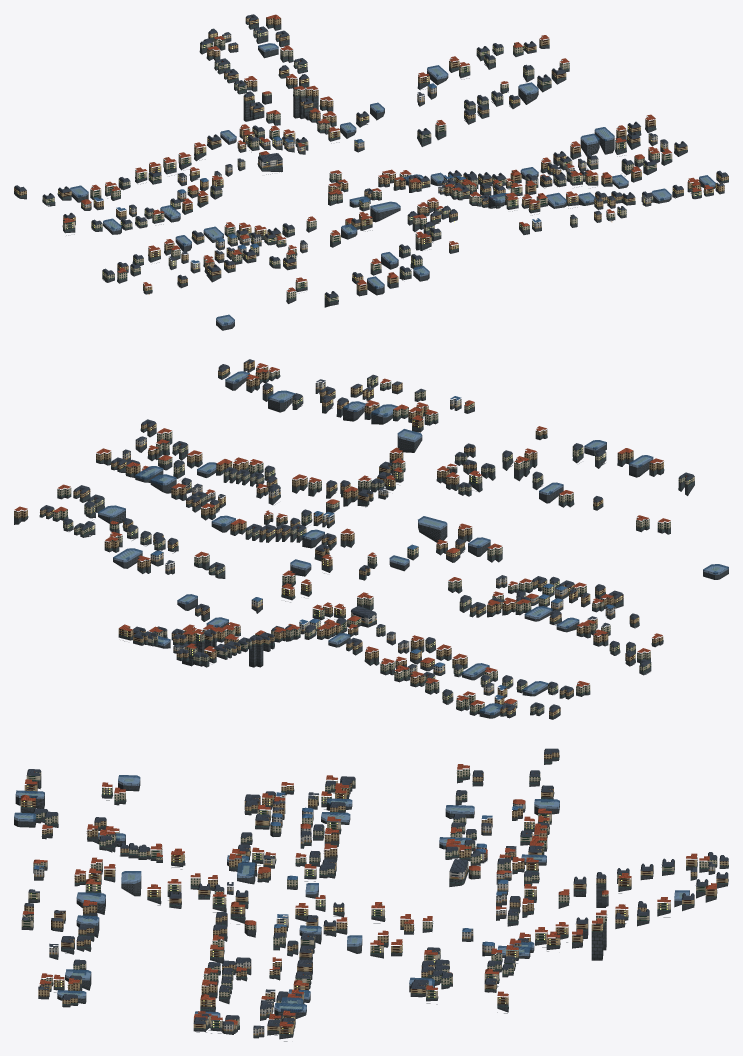
Rendered from osm_buildings_T_E02_S02_Q2.glb.
3 renders of one model, top to bottom at view 1: azimuth 30°, elevation 25°; view 2: azimuth 150°, elevation 25°; view 3: azimuth 270°, elevation 25°, orthographic. The views are drawn at different scales.
Visible parts, largest first — view 1: OSM_T_E02_S02_Q2_foundation, OSM_T_E02_S02_Q2_wall_french_ochre, OSM_T_E02_S02_Q2_wall_cream_stucco, OSM_T_E02_S02_Q2_roof_terracotta, OSM_T_E02_S02_Q2_roof_mansard_slate, OSM_T_E02_S02_Q2_greenhouse_blend, OSM_T_E02_S02_Q2_roof_mansard_deck, OSM_T_E02_S02_Q2_roof_mint_metal, OSM_T_E02_S02_Q2_trim_cornice, OSM_T_E02_S02_Q2_wall_warm_white, OSM_T_E02_S02_Q2_balcony_railing, OSM_T_E02_S02_Q2_window_emissive_warm (+2 smaller); view 2: OSM_T_E02_S02_Q2_foundation, OSM_T_E02_S02_Q2_wall_french_ochre, OSM_T_E02_S02_Q2_wall_cream_stucco, OSM_T_E02_S02_Q2_roof_terracotta, OSM_T_E02_S02_Q2_greenhouse_blend, OSM_T_E02_S02_Q2_roof_mansard_slate, OSM_T_E02_S02_Q2_roof_mansard_deck, OSM_T_E02_S02_Q2_roof_mint_metal, OSM_T_E02_S02_Q2_wall_warm_white, OSM_T_E02_S02_Q2_wall_pastel_sand, OSM_T_E02_S02_Q2_trim_cornice, OSM_T_E02_S02_Q2_window_emissive_warm (+2 smaller); view 3: OSM_T_E02_S02_Q2_foundation, OSM_T_E02_S02_Q2_wall_french_ochre, OSM_T_E02_S02_Q2_wall_cream_stucco, OSM_T_E02_S02_Q2_roof_terracotta, OSM_T_E02_S02_Q2_roof_mansard_slate, OSM_T_E02_S02_Q2_greenhouse_blend, OSM_T_E02_S02_Q2_roof_mansard_deck, OSM_T_E02_S02_Q2_trim_cornice, OSM_T_E02_S02_Q2_roof_mint_metal, OSM_T_E02_S02_Q2_wall_warm_white, OSM_T_E02_S02_Q2_balcony_railing, OSM_T_E02_S02_Q2_wall_pastel_sand (+2 smaller).
Boxes of the visible parts, box(x1,y1,x2,y2) form: OSM_T_E02_S02_Q2_foundation: box(14, 21, 728, 330); OSM_T_E02_S02_Q2_wall_french_ochre: box(14, 17, 728, 291); OSM_T_E02_S02_Q2_wall_cream_stucco: box(42, 30, 701, 301); OSM_T_E02_S02_Q2_roof_terracotta: box(63, 14, 713, 293); OSM_T_E02_S02_Q2_roof_mansard_slate: box(14, 15, 728, 297); OSM_T_E02_S02_Q2_greenhouse_blend: box(70, 43, 715, 325); OSM_T_E02_S02_Q2_roof_mansard_deck: box(16, 14, 727, 325); OSM_T_E02_S02_Q2_roof_mint_metal: box(14, 21, 728, 301); OSM_T_E02_S02_Q2_trim_cornice: box(19, 17, 728, 298); OSM_T_E02_S02_Q2_wall_warm_white: box(81, 86, 598, 254); OSM_T_E02_S02_Q2_balcony_railing: box(15, 21, 719, 298); OSM_T_E02_S02_Q2_window_emissive_warm: box(18, 33, 720, 321); OSM_T_E02_S02_Q2_foundation: box(14, 367, 728, 719); OSM_T_E02_S02_Q2_wall_french_ochre: box(14, 361, 663, 716); OSM_T_E02_S02_Q2_wall_cream_stucco: box(53, 369, 694, 713); OSM_T_E02_S02_Q2_roof_terracotta: box(14, 363, 686, 705); OSM_T_E02_S02_Q2_greenhouse_blend: box(98, 371, 728, 715); OSM_T_E02_S02_Q2_roof_mansard_slate: box(40, 359, 694, 712); OSM_T_E02_S02_Q2_roof_mansard_deck: box(42, 364, 724, 713); OSM_T_E02_S02_Q2_roof_mint_metal: box(14, 372, 693, 716); OSM_T_E02_S02_Q2_wall_warm_white: box(150, 399, 567, 706); OSM_T_E02_S02_Q2_wall_pastel_sand: box(122, 381, 615, 693); OSM_T_E02_S02_Q2_trim_cornice: box(15, 362, 693, 713); OSM_T_E02_S02_Q2_window_emissive_warm: box(50, 366, 719, 713); OSM_T_E02_S02_Q2_foundation: box(14, 755, 728, 1039); OSM_T_E02_S02_Q2_wall_french_ochre: box(20, 752, 728, 1034); OSM_T_E02_S02_Q2_wall_cream_stucco: box(21, 768, 717, 1029); OSM_T_E02_S02_Q2_roof_terracotta: box(20, 764, 716, 1026); OSM_T_E02_S02_Q2_roof_mansard_slate: box(22, 749, 728, 1028); OSM_T_E02_S02_Q2_greenhouse_blend: box(14, 775, 689, 1020); OSM_T_E02_S02_Q2_roof_mansard_deck: box(17, 748, 727, 1023); OSM_T_E02_S02_Q2_trim_cornice: box(22, 754, 728, 1041); OSM_T_E02_S02_Q2_roof_mint_metal: box(21, 758, 728, 1034); OSM_T_E02_S02_Q2_wall_warm_white: box(34, 801, 525, 1016); OSM_T_E02_S02_Q2_balcony_railing: box(23, 781, 717, 1032); OSM_T_E02_S02_Q2_wall_pastel_sand: box(49, 795, 715, 1035).
Bounding box in the file's own units: 940 × 148 × 922.
Materials: 16 (16 with a texture image).
